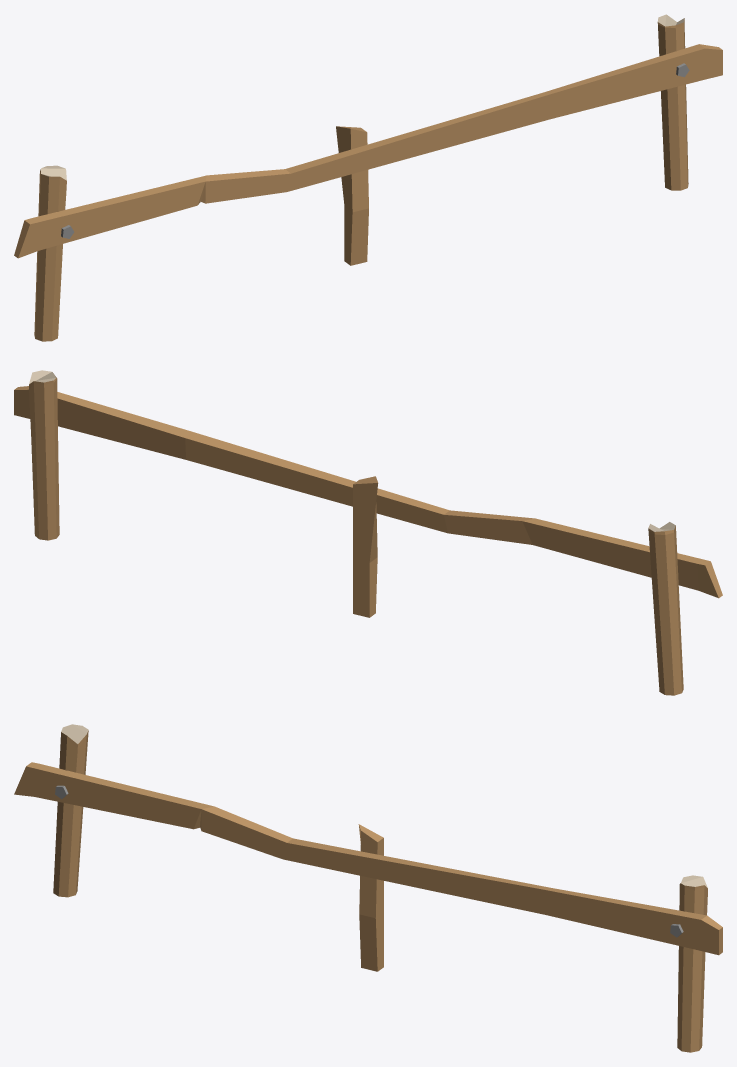
File: Fence_6.fbx
The picture shows the model from 3 angles, top to bottom: view 1: azimuth 30°, elevation 25°; view 2: azimuth 150°, elevation 25°; view 3: azimuth 330°, elevation 25°; orthographic projection.
Parts seen in each view (by area): view 1: Fence_6; view 2: Fence_6; view 3: Fence_6.
Boxes of the visible parts, x1,y1,x2,y2 form: Fence_6: (14, 14, 722, 341); Fence_6: (14, 370, 722, 695); Fence_6: (14, 724, 722, 1052).
Bounding box in the file's own units: 575 × 31.51 × 128.
